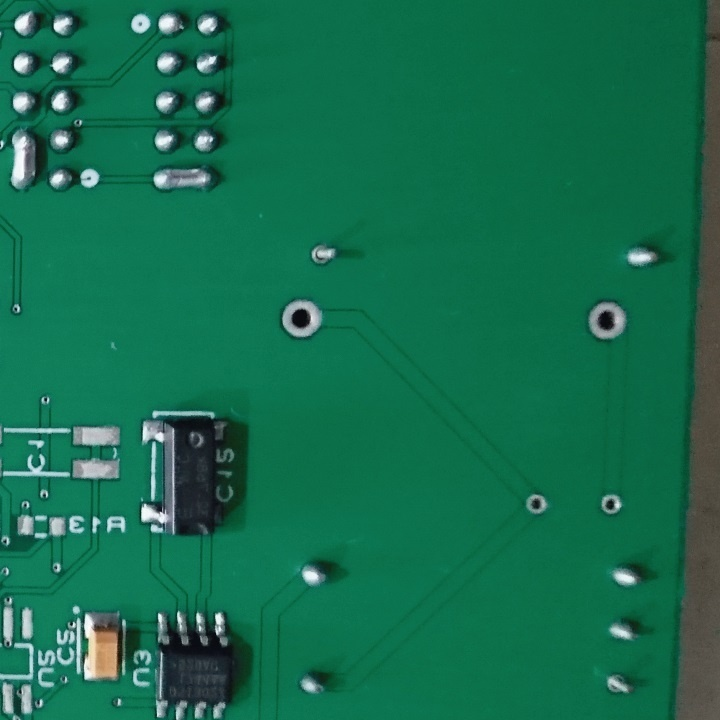F: (583, 296, 632, 346), (279, 295, 327, 342), (307, 238, 342, 270), (601, 669, 636, 698), (521, 487, 550, 520), (596, 489, 626, 518)
P: (6, 123, 44, 196), (150, 163, 220, 192)
